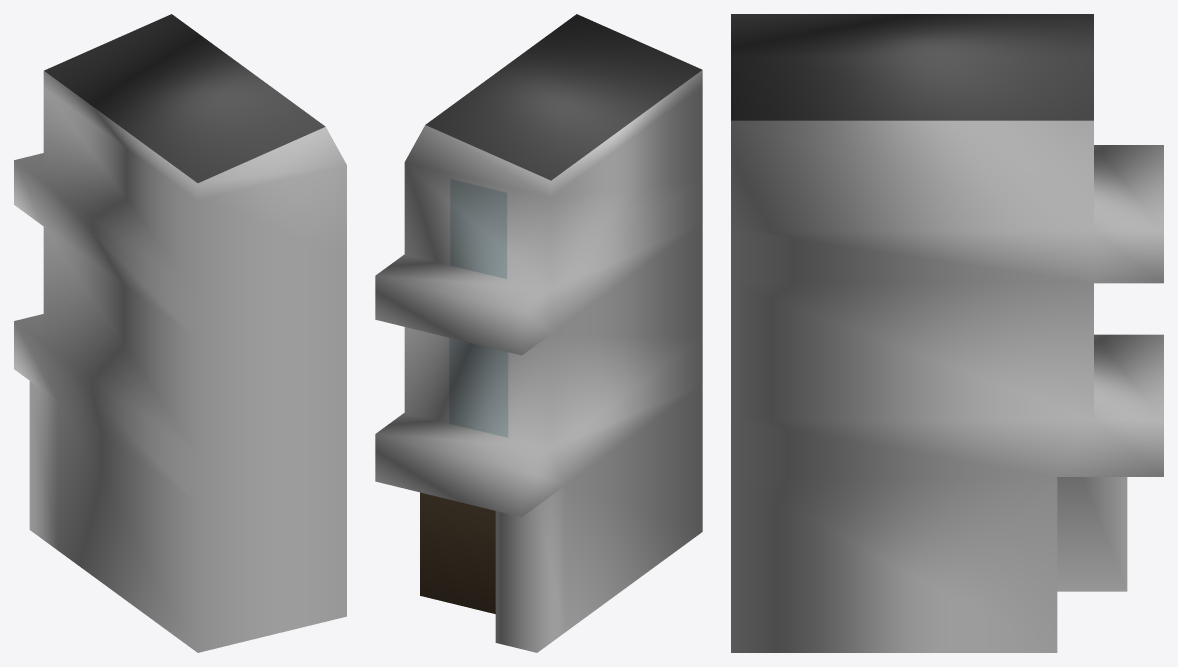
The model's file is house03.fbx.
3 views of the same model, side by side, from view 1: azimuth 30°, elevation 25°; view 2: azimuth 150°, elevation 25°; view 3: azimuth 270°, elevation 25° (orthographic). The views are drawn at different scales.
Visible parts, largest first — view 1: Cube; view 2: Cube; view 3: Cube.
Part boxes in pixels (x1,y1,x2,y2): Cube: [14, 14, 346, 652]; Cube: [375, 14, 702, 652]; Cube: [731, 14, 1163, 652].
Bounding box in the file's own units: 2 × 6.35 × 4.27.
1 material, 1 textured.
